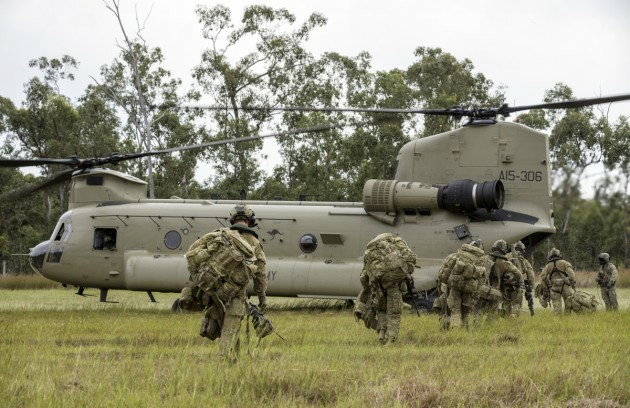chinook: (10, 93, 568, 312)
